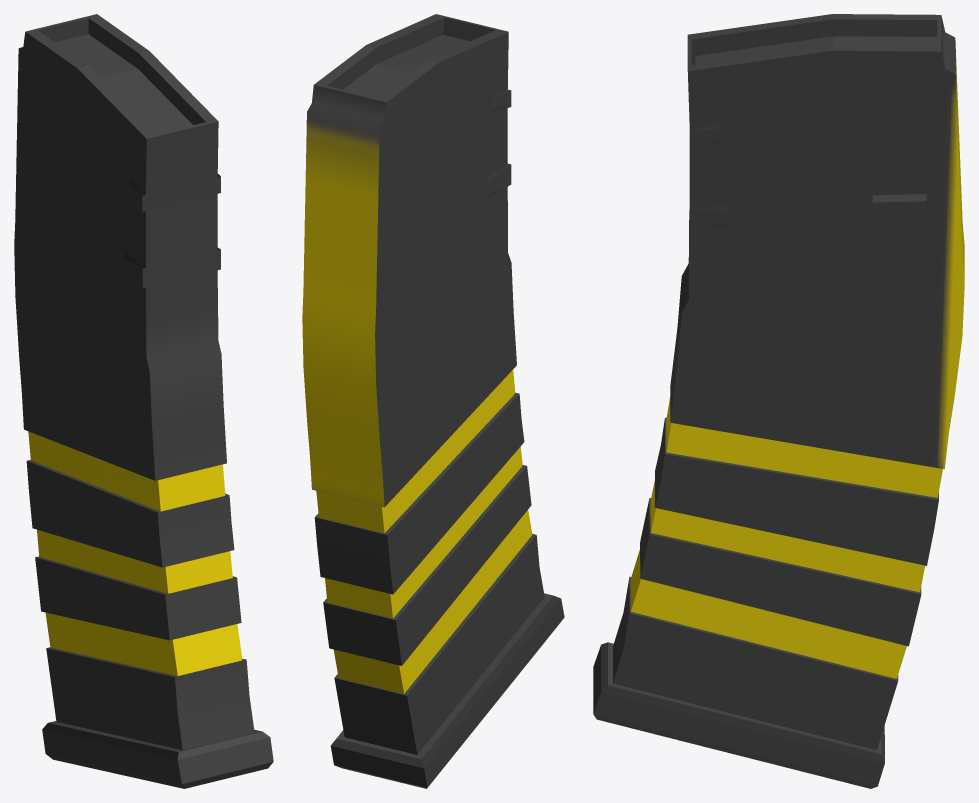
Rendered from Rifle_Magazine_resize.FBX.
The picture shows the model from 3 angles, left to right: view 1: azimuth 30°, elevation 25°; view 2: azimuth 150°, elevation 25°; view 3: azimuth 270°, elevation 25°; orthographic projection. The views are drawn at different scales.
Visible parts, largest first — view 1: Magazine, Magzine_Effect; view 2: Magazine, Magzine_Effect; view 3: Magazine, Magzine_Effect.
Boxes of the visible parts, box(x1,y1,x2,y2) form: Magazine: box(14, 14, 273, 788); Magzine_Effect: box(28, 431, 242, 676); Magazine: box(302, 14, 564, 788); Magzine_Effect: box(316, 369, 532, 693); Magazine: box(593, 14, 964, 788); Magzine_Effect: box(630, 397, 942, 678).
Bounding box in the file's own units: 0.026 × 0.1885 × 0.0863.
